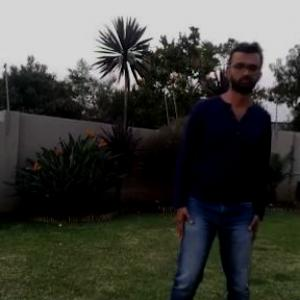follow: (168, 40, 275, 299)
